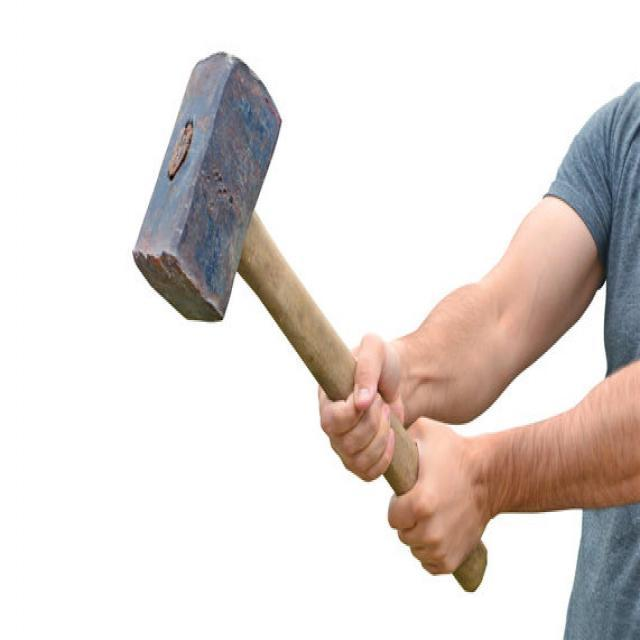hammer: (126, 42, 492, 600)
